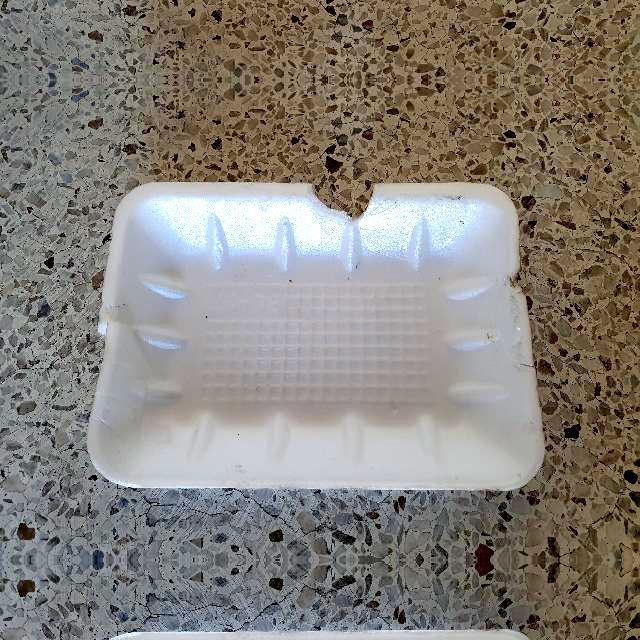Styrofoam: (86, 183, 545, 490), (89, 184, 545, 488)
